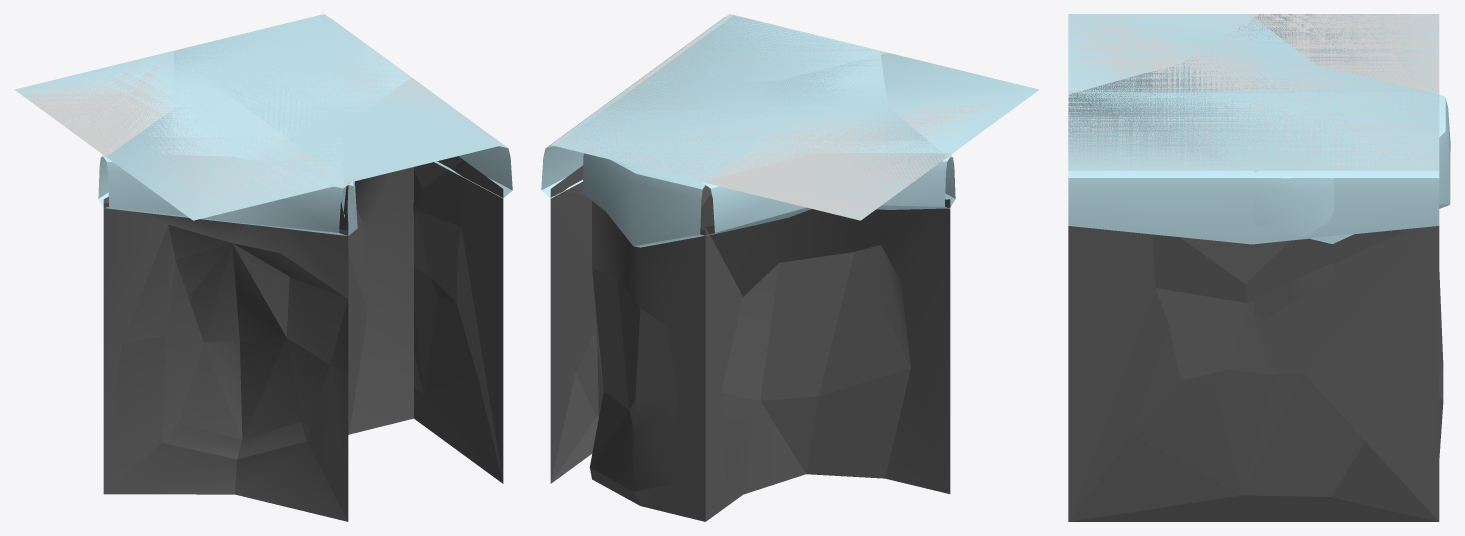
The model's file is sCLIFF.fbx.
3 renders of one model, left to right at view 1: azimuth 30°, elevation 25°; view 2: azimuth 150°, elevation 25°; view 3: azimuth 270°, elevation 25°, orthographic. The views are drawn at different scales.
Parts seen in each view (by area): view 1: Snow_cliff_int_corner_tile, Snow_cliff_edge_tile, Snow_cliff_double_corner_tile, Snow_cliff_fill_tile; view 2: Snow_cliff_double_corner_tile, Snow_cliff_edge_tile, Snow_cliff_corner_tile, Snow_cliff_fill_tile, Snow_cliff_int_corner_tile; view 3: Snow_cliff_edge_tile, Snow_cliff_double_corner_tile, Snow_cliff_fill_tile, Snow_cliff_int_corner_tile, Snow_cliff_corner_tile.
Boxes of the visible parts, x1=… form: Snow_cliff_int_corner_tile: x1=15, y1=15, x2=502, y2=521; Snow_cliff_edge_tile: x1=170, y1=15, x2=512, y2=483; Snow_cliff_double_corner_tile: x1=98, y1=14, x2=413, y2=434; Snow_cliff_fill_tile: x1=16, y1=14, x2=502, y2=220; Snow_cliff_double_corner_tile: x1=551, y1=53, x2=1039, y2=521; Snow_cliff_edge_tile: x1=541, y1=15, x2=884, y2=483; Snow_cliff_corner_tile: x1=582, y1=153, x2=706, y2=521; Snow_cliff_fill_tile: x1=552, y1=14, x2=1015, y2=220; Snow_cliff_int_corner_tile: x1=554, y1=14, x2=955, y2=220; Snow_cliff_edge_tile: x1=1068, y1=92, x2=1439, y2=521; Snow_cliff_double_corner_tile: x1=1068, y1=14, x2=1439, y2=172; Snow_cliff_fill_tile: x1=1068, y1=14, x2=1439, y2=170; Snow_cliff_int_corner_tile: x1=1068, y1=14, x2=1439, y2=170; Snow_cliff_corner_tile: x1=1254, y1=94, x2=1450, y2=457.
Bounding box in the file's own units: 103 × 103 × 104.
